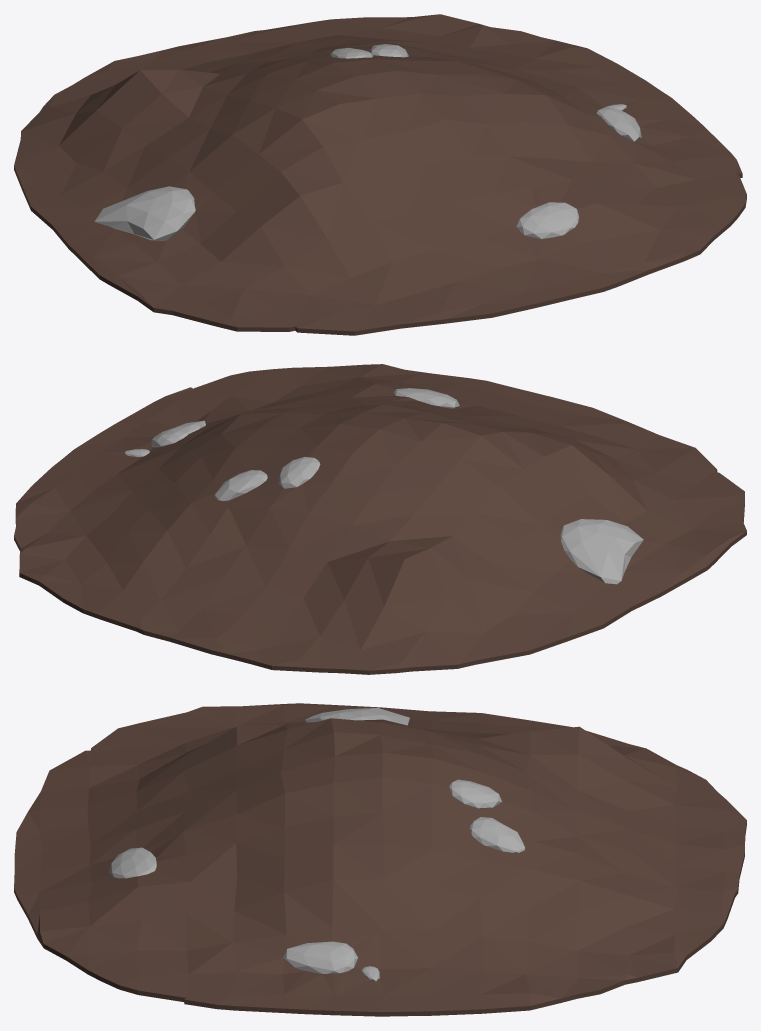
File: Enbankment.fbx
The picture shows the model from 3 angles, top to bottom: view 1: azimuth 30°, elevation 25°; view 2: azimuth 150°, elevation 25°; view 3: azimuth 270°, elevation 25°; orthographic projection. The views are drawn at different scales.
Visible parts, largest first — view 1: Embankment 1; view 2: Embankment 1; view 3: Embankment 1.
Boxes of the visible parts, x1,y1,x2,y2 form: Embankment 1: (14,14,746,335); Embankment 1: (14,364,746,674); Embankment 1: (14,703,746,1016).
Size of the model in its own units: 14.01 by 2.24 by 14.08.
